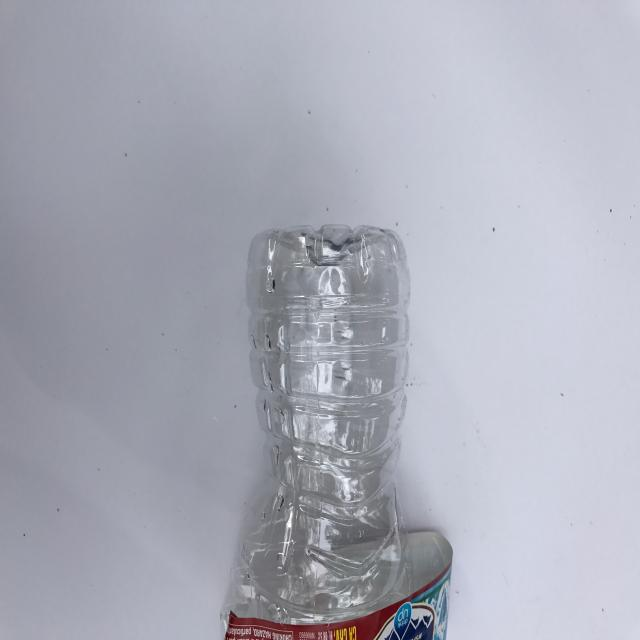plastic: (219, 222, 452, 638)
